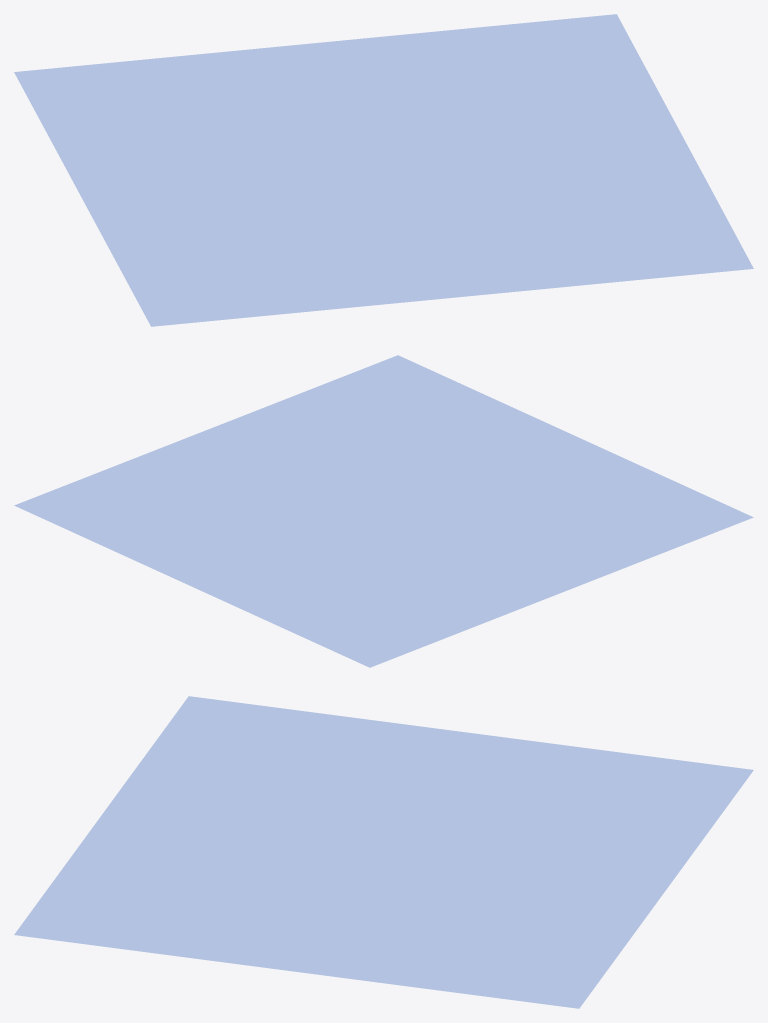
Rendered from object_ocean_waves.glb.
3 renders of one model, top to bottom at view 1: azimuth 30°, elevation 25°; view 2: azimuth 150°, elevation 25°; view 3: azimuth 270°, elevation 25°, orthographic. The views are drawn at different scales.
Parts seen in each view (by area): view 1: Plane.021; view 2: Plane.021; view 3: Plane.021.
Boxes of the visible parts, box(x1,y1,x2,y2) form: Plane.021: box(14, 14, 753, 326); Plane.021: box(14, 355, 753, 667); Plane.021: box(14, 696, 753, 1008).
Bounding box in the file's own units: 33.92 × 4.55e-15 × 33.92.
